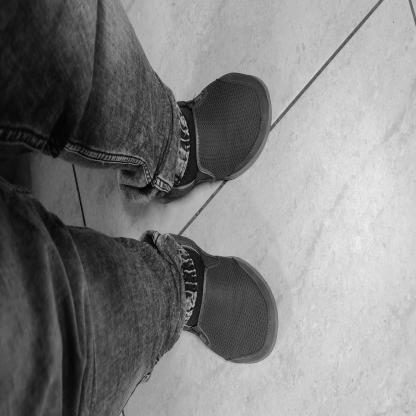ankle: (184, 184, 187, 191), (194, 278, 197, 283)
heel: (161, 196, 163, 202), (165, 238, 167, 240)
left_foot: (157, 74, 273, 205)
pinky: (249, 80, 252, 85), (258, 353, 260, 358)
right_foot: (161, 233, 277, 364)
toe: (265, 128, 267, 135), (265, 284, 267, 290)
